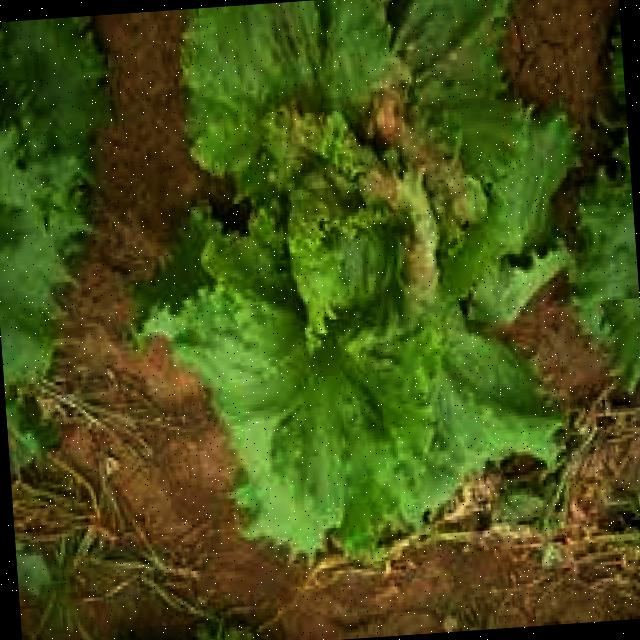Viral: (234, 9, 491, 502)
